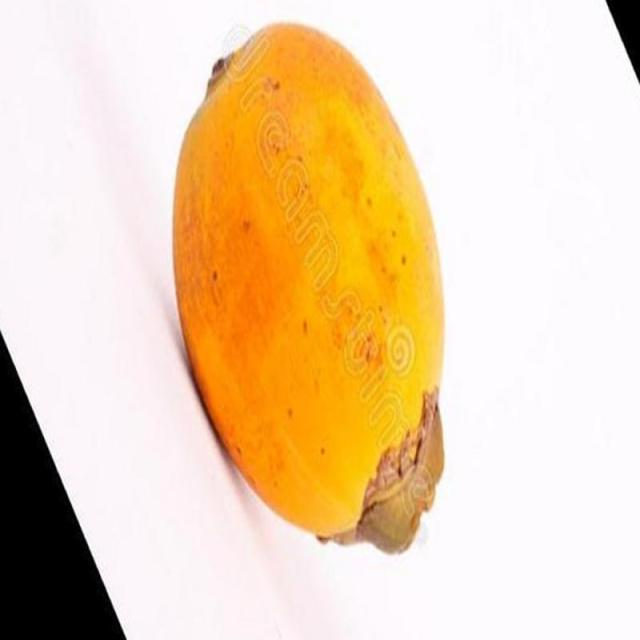good: (171, 22, 447, 556)
